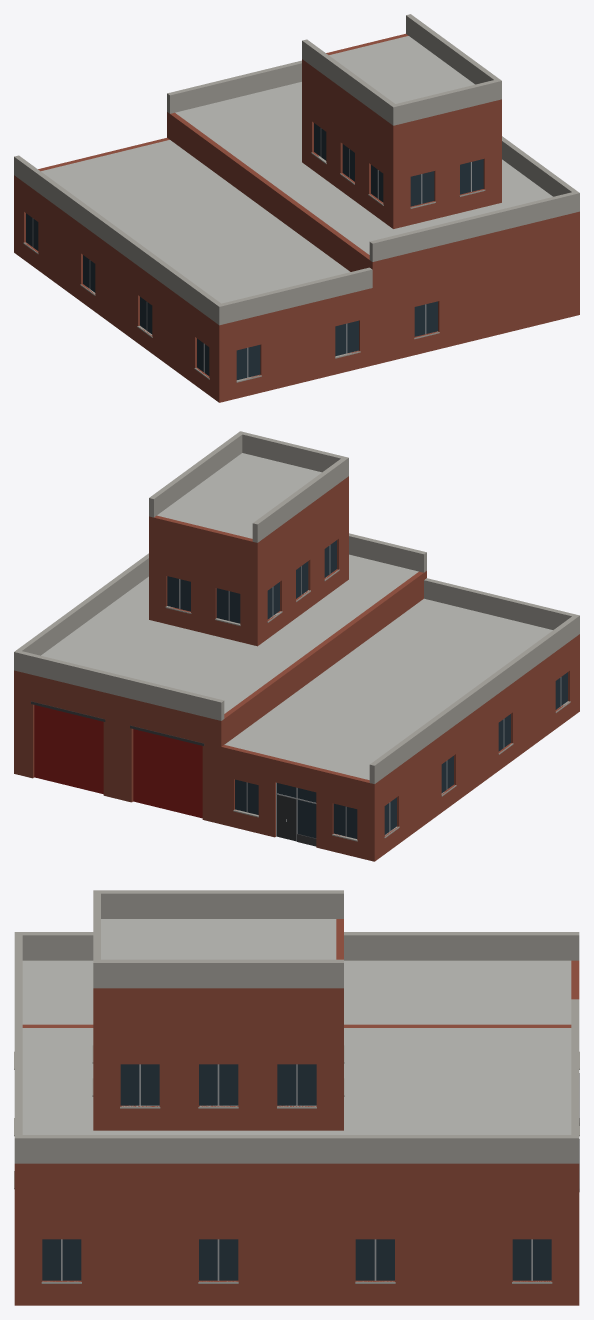
The model's file is bld_fire_station.glb.
The picture shows the model from 3 angles, top to bottom: view 1: azimuth 30°, elevation 25°; view 2: azimuth 150°, elevation 25°; view 3: azimuth 270°, elevation 25°; orthographic projection. The views are drawn at different scales.
Visible parts, largest first — view 1: bld_fire_station-col; view 2: bld_fire_station-col; view 3: bld_fire_station-col.
Boxes of the visible parts, <box> form: bld_fire_station-col: <box>14,14,579,402</box>; bld_fire_station-col: <box>14,431,579,861</box>; bld_fire_station-col: <box>14,890,579,1305</box>.
Bounding box in the file's own units: 21.96 × 13.07 × 21.66.
